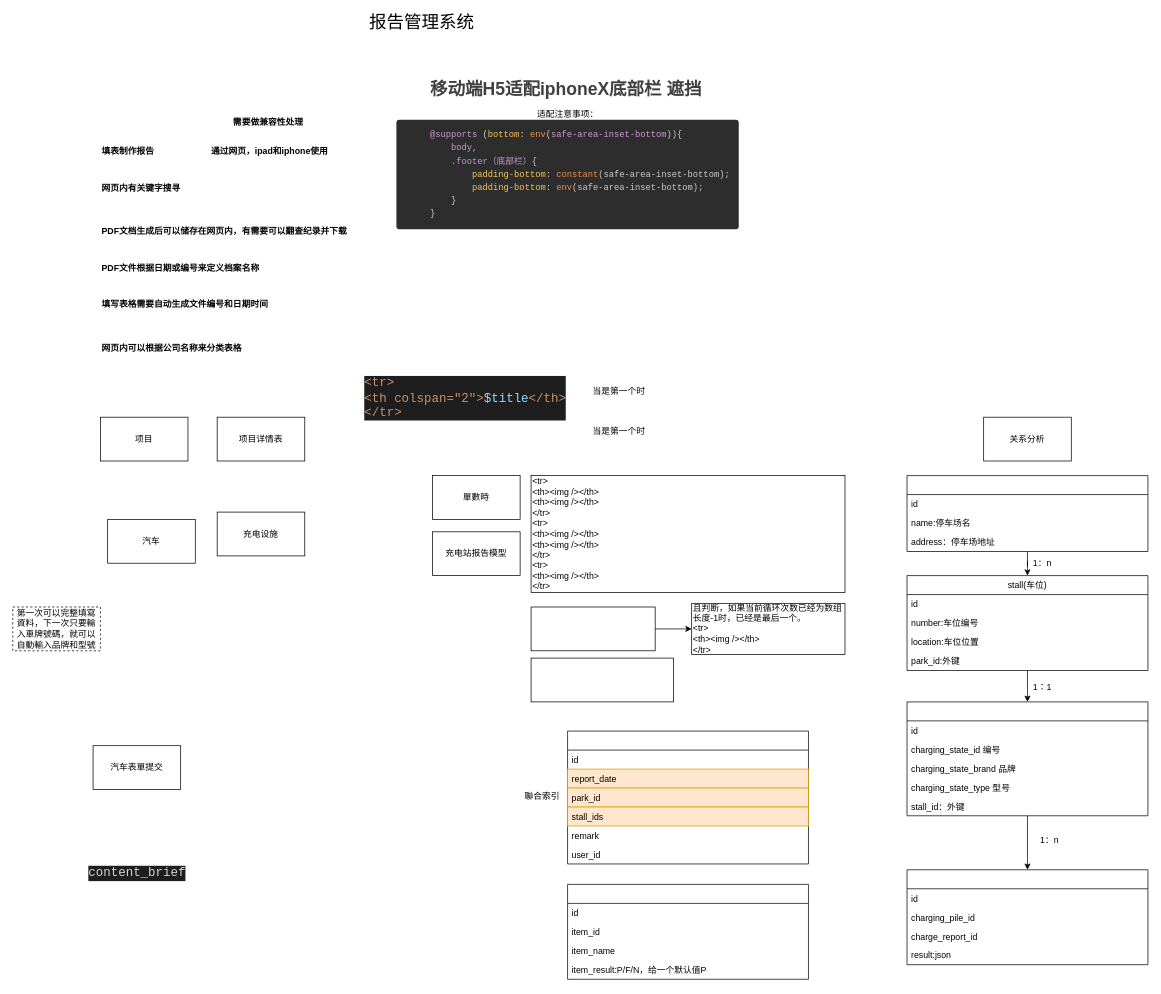
Image size: 1161x994. Some labels were removed from this diagram. Each missing label, with the box of its shape:
charge_fields: (567, 884, 808, 979)
charge_report: (567, 730, 808, 864)
charge_result: (906, 869, 1148, 965)
charging_pile（充电桩）: (906, 701, 1148, 816)
park（停车场）: (906, 475, 1148, 552)
判断当前为偶数时 <tr> <th><img /></th>: (530, 606, 655, 651)
判断当前为奇数时 <th><img /></th> </tr>: (530, 657, 673, 702)
